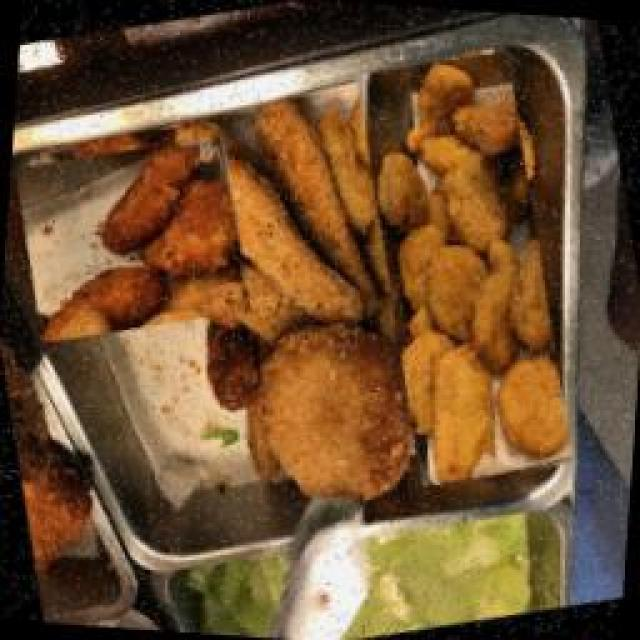chicken_nuggets: (328, 40, 603, 498)
triangle_hash_brown: (10, 112, 258, 360)
